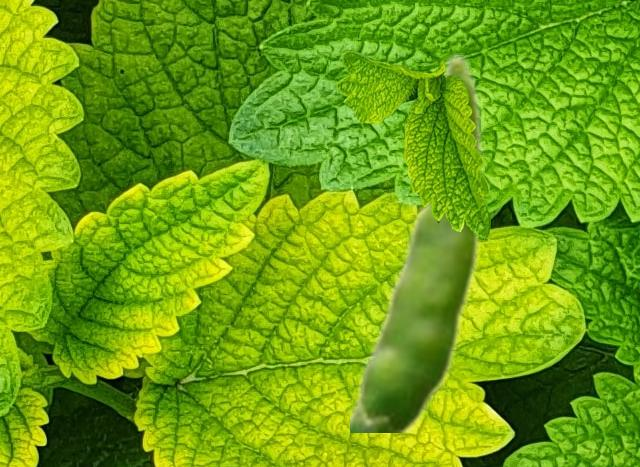green_chili: (350, 51, 484, 431)
